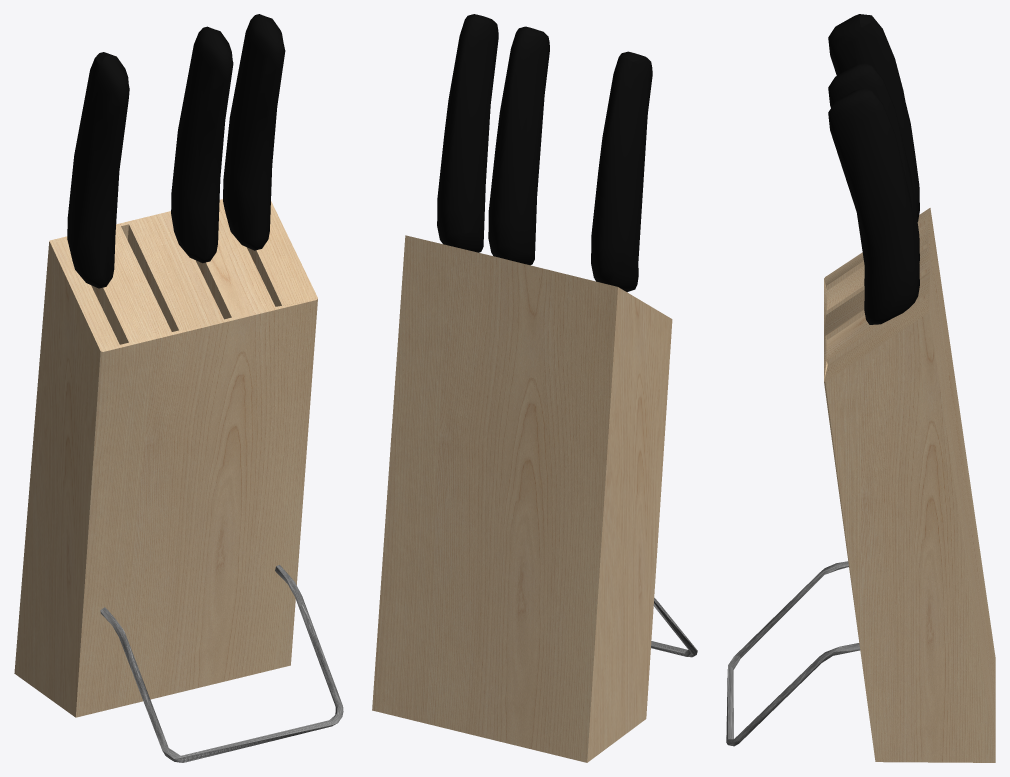
File: Knives.FBX
3 views of the same model, side by side, from view 1: azimuth 30°, elevation 25°; view 2: azimuth 150°, elevation 25°; view 3: azimuth 270°, elevation 25° (orthographic).
Parts seen in each view (by area): view 1: knives; view 2: knives; view 3: knives.
Part boxes in pixels (x1=…): knives: x1=14, y1=14, x2=343, y2=762; knives: x1=372, y1=14, x2=697, y2=762; knives: x1=726, y1=14, x2=995, y2=762.
Size of the model in its own units: 99.77 by 291 by 108.
